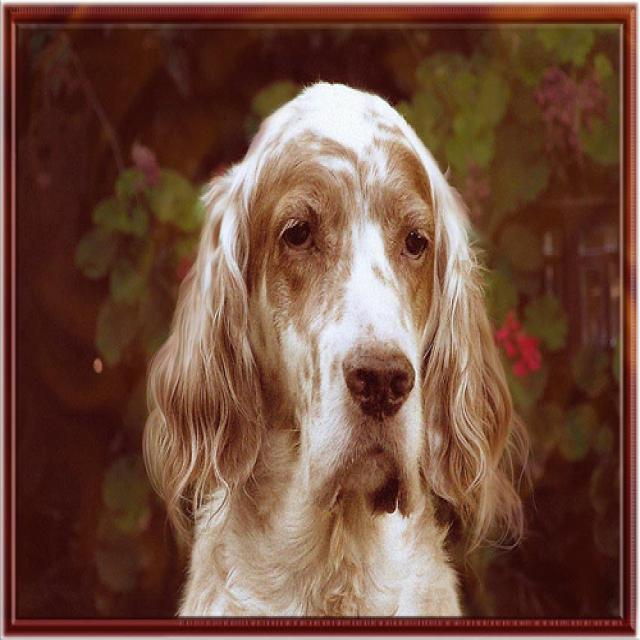dog-english_setter: (131, 72, 538, 637)
